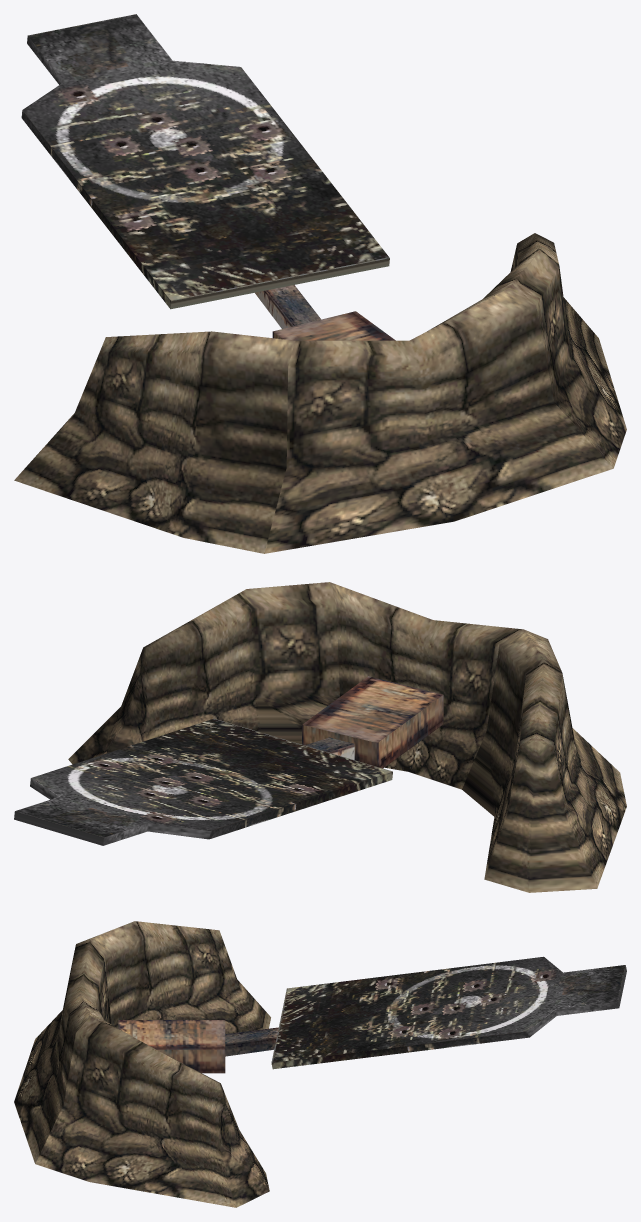
Rendered from Targt01X.glb.
3 renders of one model, top to bottom at view 1: azimuth 30°, elevation 25°; view 2: azimuth 150°, elevation 25°; view 3: azimuth 270°, elevation 25°, orthographic. The views are drawn at different scales.
Visible parts, largest first — view 1: _Targt01X; view 2: _Targt01X; view 3: _Targt01X.
Boxes of the visible parts, x1=… form: _Targt01X: x1=14, y1=14, x2=626, y2=553; _Targt01X: x1=14, y1=582, x2=626, y2=892; _Targt01X: x1=14, y1=921, x2=626, y2=1207.
Size of the model in its own units: 2.65 by 0.7928 by 3.29.
Materials: 1 (1 with a texture image).
